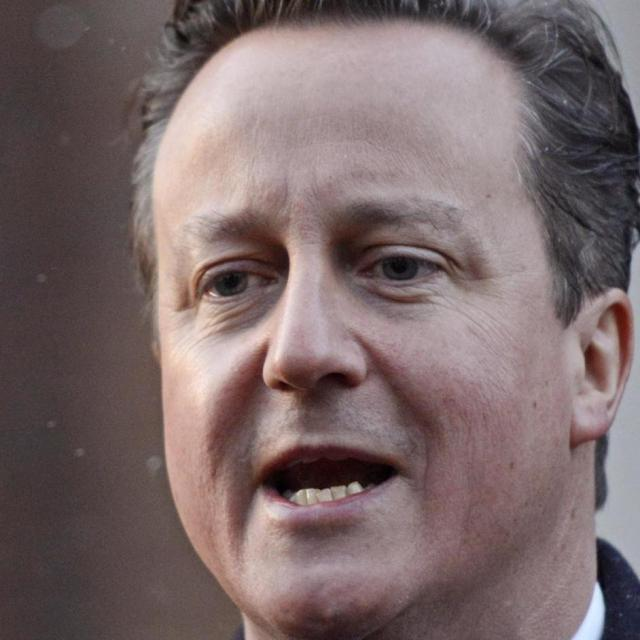surprised: (99, 79, 588, 614)
